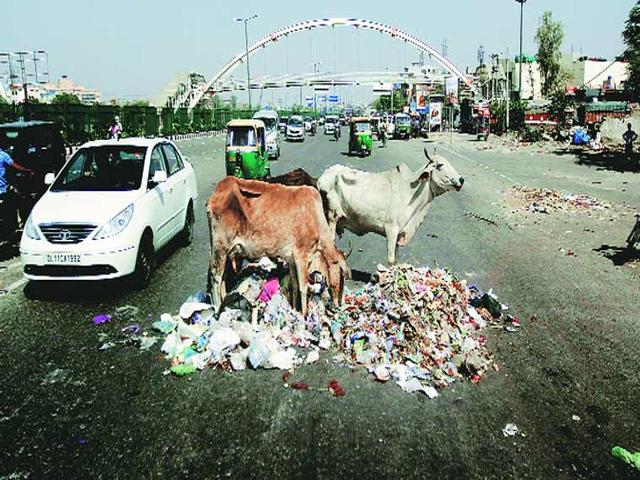garbage: (365, 280, 487, 379), (177, 298, 306, 356)
